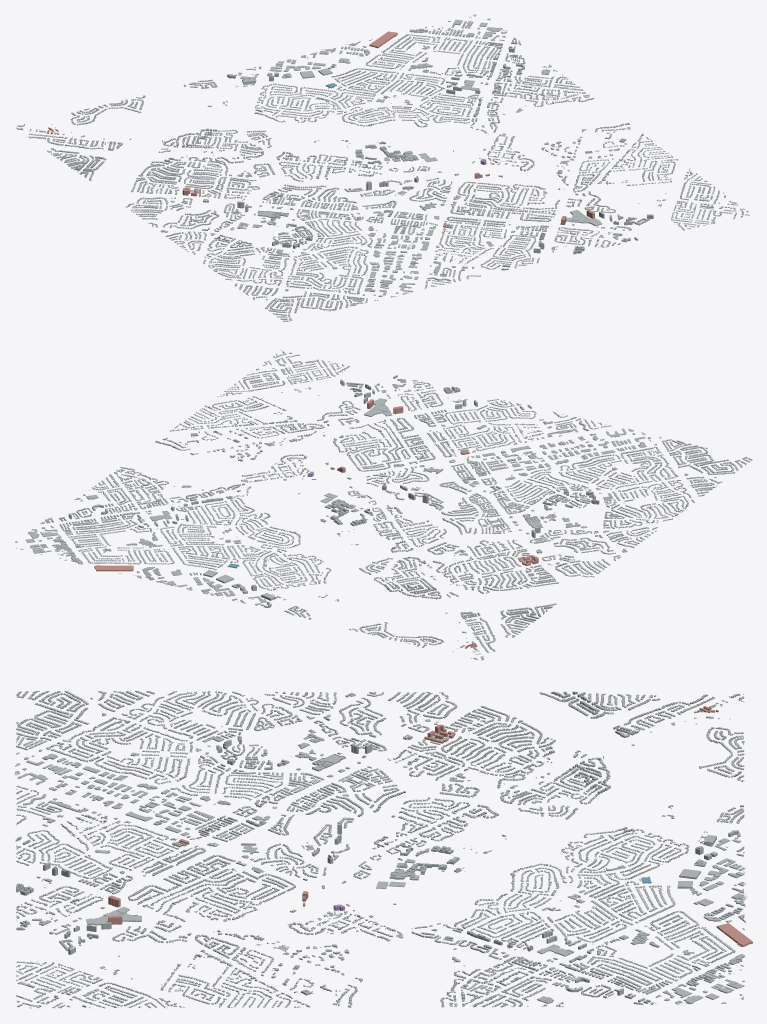
The model's file is erindale.glb.
The picture shows the model from 3 angles, top to bottom: view 1: azimuth 30°, elevation 25°; view 2: azimuth 150°, elevation 25°; view 3: azimuth 270°, elevation 25°; orthographic projection. The views are drawn at different scales.
Parts seen in each view (by area): view 1: existing-52, existing-61, existing-81, existing-53, existing-91, existing-62, existing-51, existing-82; view 2: existing-52, existing-61, existing-53, existing-81, existing-91, existing-62, existing-51, existing-82; view 3: existing-52, existing-61, existing-81, existing-53, existing-91, existing-62, existing-51, existing-82.
Boxes of the visible parts, bbox=[...] form: existing-52: bbox=[126, 197, 439, 297]; existing-61: bbox=[29, 68, 488, 175]; existing-81: bbox=[424, 180, 671, 288]; existing-53: bbox=[27, 133, 452, 210]; existing-91: bbox=[484, 37, 678, 192]; existing-62: bbox=[183, 19, 507, 88]; existing-51: bbox=[234, 283, 377, 321]; existing-82: bbox=[671, 168, 749, 230]; existing-52: bbox=[449, 428, 694, 577]; existing-61: bbox=[145, 477, 480, 654]; existing-53: bbox=[366, 465, 558, 652]; existing-81: bbox=[252, 375, 611, 471]; existing-91: bbox=[40, 398, 328, 524]; existing-62: bbox=[25, 512, 311, 619]; existing-51: bbox=[659, 436, 752, 496]; existing-82: bbox=[217, 350, 349, 397]; existing-52: bbox=[14, 691, 457, 846]; existing-61: bbox=[321, 700, 744, 962]; existing-81: bbox=[15, 785, 295, 990]; existing-53: bbox=[240, 691, 715, 880]; existing-91: bbox=[168, 909, 656, 1007]; existing-62: bbox=[559, 805, 747, 1004]; existing-51: bbox=[16, 690, 154, 754]; existing-82: bbox=[16, 961, 184, 1008].
Bounding box in the file's own units: 5042 × 117 × 5078.
